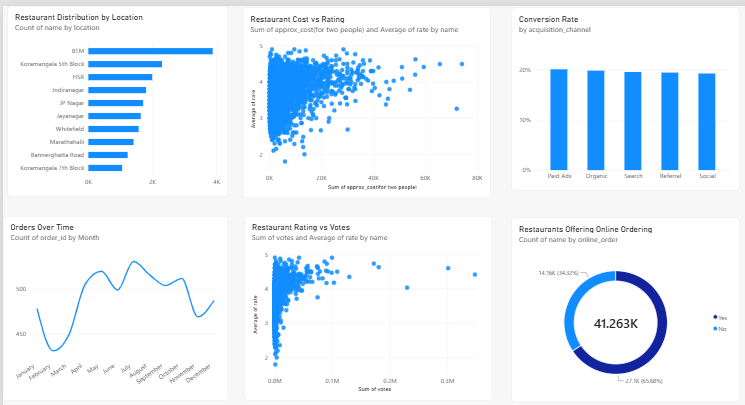

What the dashboard file says about the page in this screenshot:
{"tool":"powerbi","page":{"name":"Restaurant Marketplace Analysis","canvas":[1920,1080],"ordinal":1},"visuals":[{"type":"clusteredBarChart","title":"Restaurant Distribution by Location","fields":{"Category":["zomato_restaurants.location"],"Y":["CountNonNull(zomato_restaurants.name)"]},"box":[10,0,490,423.3],"z":0},{"type":"scatterChart","title":"Restaurant Rating vs Votes","fields":{"Category":["zomato_restaurants.name"],"X":["Sum(zomato_restaurants.votes)"],"Y":["Avg(zomato_restaurants.rate)"]},"box":[536.7,466.7,550,410],"z":1},{"type":"donutChart","title":"Restaurants Offering Online Ordering","fields":{"Category":["zomato_restaurants.online_order"],"Y":["CountNonNull(zomato_restaurants.name)"]},"box":[1130,470,506.7,410],"z":2},{"type":"scatterChart","title":"Restaurant Cost vs Rating","fields":{"Category":["zomato_restaurants.name"],"X":["Sum(zomato_restaurants.approx_cost(for two people))"],"Y":["Avg(zomato_restaurants.rate)"]},"box":[533.3,3.3,550,423.3],"z":3},{"type":"lineClusteredColumnComboChart","fields":{"Category":["customers.acquisition_channel"],"Y":["sessions.Conversion Rate"]},"box":[1130,3.3,506.7,406.7],"z":5},{"type":"lineChart","title":"Orders Over Time","fields":{"Category":["orders.order_date.Variation.Date Hierarchy.Month"],"Y":["CountNonNull(orders.order_id)"]},"box":[0,466.7,500,410],"z":6}]}

Visuals, with their boxes on the page's 1920x1080 design canvas (x1, y1, x2, y2). These are canvas units, not pixel positions in the 745x405 screenshot, which may show the page scaled, cropped or inside an application window:
"Restaurant Distribution by Location" clusteredBarChart: <region>10, 0, 500, 423</region>
"Restaurant Rating vs Votes" scatterChart: <region>537, 467, 1087, 877</region>
"Restaurants Offering Online Ordering" donutChart: <region>1130, 470, 1637, 880</region>
"Restaurant Cost vs Rating" scatterChart: <region>533, 3, 1083, 427</region>
lineClusteredColumnComboChart - customers.acquisition_channel x sessions.Conversion Rate: <region>1130, 3, 1637, 410</region>
"Orders Over Time" lineChart: <region>0, 467, 500, 877</region>
